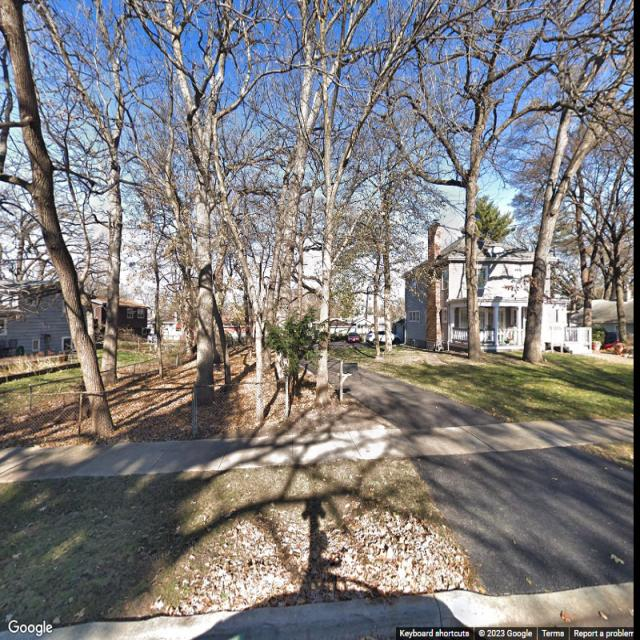House: (405, 218, 593, 354), (0, 281, 80, 356), (93, 293, 151, 342)
